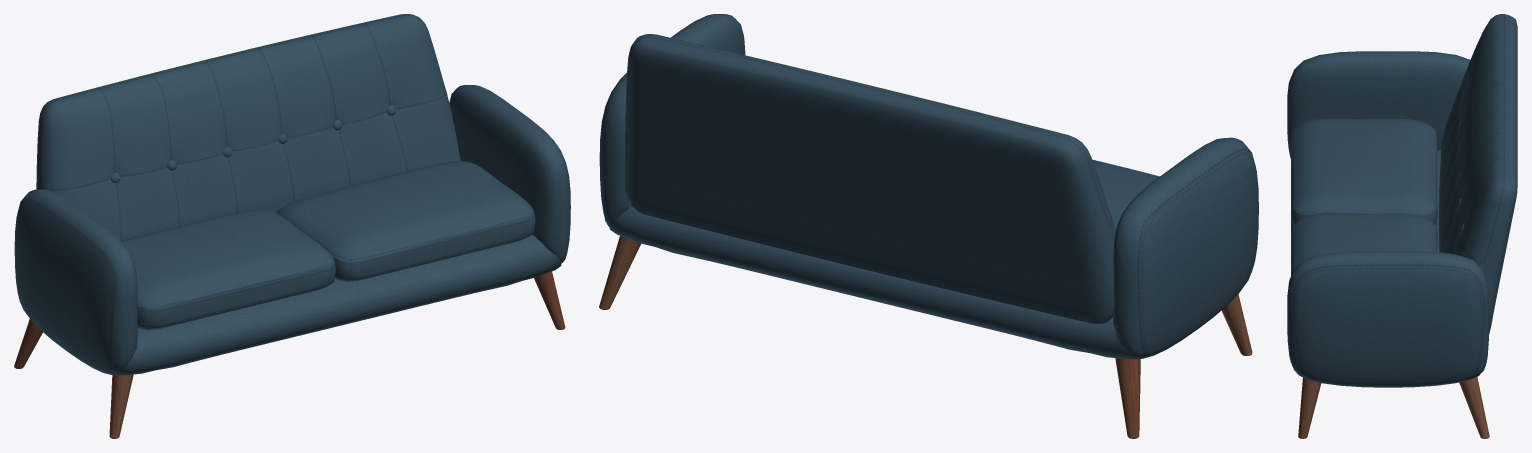
The model's file is modern_sofa.glb.
The picture shows the model from 3 angles, left to right: view 1: azimuth 30°, elevation 25°; view 2: azimuth 150°, elevation 25°; view 3: azimuth 270°, elevation 25°; orthographic projection. The views are drawn at different scales.
Parts seen in each view (by area): view 1: Sofa; view 2: Sofa; view 3: Sofa.
Boxes of the visible parts, x1,y1,x2,y2 form: Sofa: (14, 14, 570, 438); Sofa: (599, 14, 1258, 438); Sofa: (1287, 14, 1517, 438).
Bounding box in the file's own units: 2.21 × 1.12 × 0.9789.
1 material, 1 textured.
